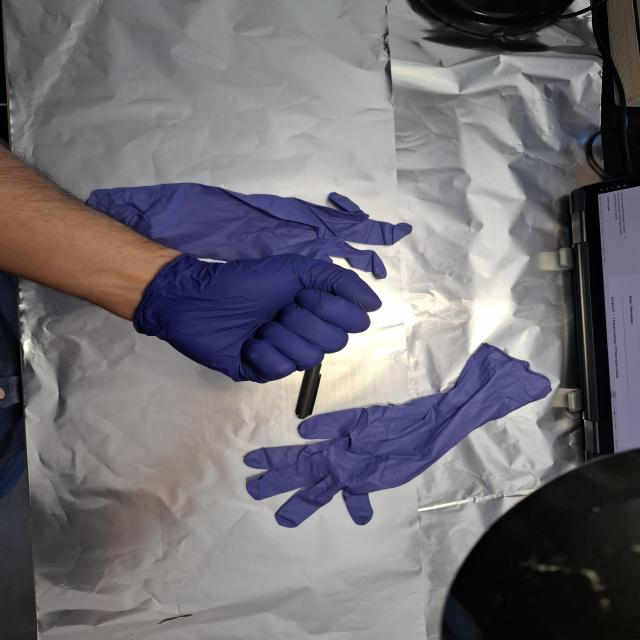glove_on: (128, 251, 385, 387)
